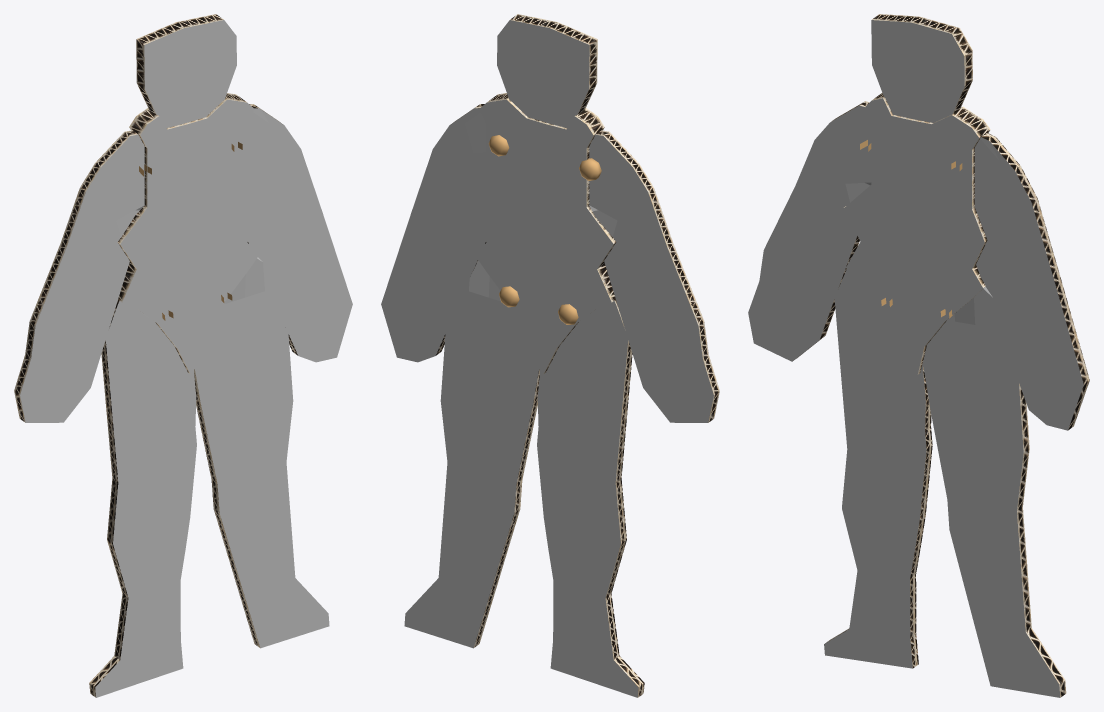
The model's file is figurtest.fbx.
3 renders of one model, left to right at view 1: azimuth 30°, elevation 25°; view 2: azimuth 150°, elevation 25°; view 3: azimuth 330°, elevation 25°, orthographic.
Visible parts, largest first — view 1: Plane.004, Plane.005, Plane.001, Plane.002, Plane.006, Plane.003; view 2: Plane.004, Plane.005, Plane.001, Plane.002, Plane.006, Plane.003; view 3: Plane.005, Plane.004, Plane.001, Plane.006, Plane.002, Plane.003.
Part boxes in pixels (box(x1,y1,x2,y2)): Plane.004: box(89, 299, 196, 697); Plane.005: box(194, 257, 329, 648); Plane.001: box(117, 93, 259, 374); Plane.002: box(14, 130, 144, 422); Plane.006: box(247, 104, 352, 362); Plane.003: box(136, 14, 236, 127); Plane.004: box(537, 299, 644, 697); Plane.005: box(404, 260, 539, 648); Plane.001: box(474, 93, 616, 374); Plane.002: box(589, 130, 719, 422); Plane.006: box(381, 104, 486, 362); Plane.003: box(497, 14, 597, 127); Plane.005: box(922, 287, 1066, 697); Plane.004: box(824, 268, 932, 668); Plane.001: box(844, 93, 990, 374); Plane.006: box(974, 132, 1089, 430); Plane.002: box(748, 101, 871, 361); Plane.003: box(871, 14, 972, 122).
Bounding box in the file's own units: 274 × 511 × 26.15.
